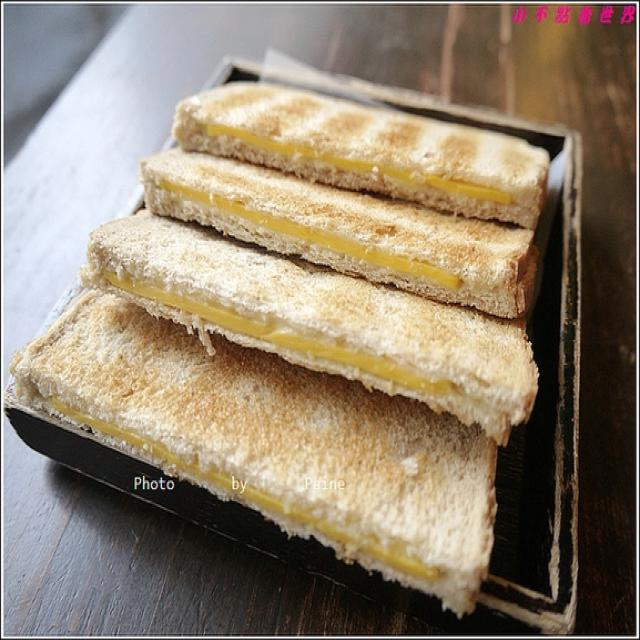面包点心: (16, 31, 579, 594)
